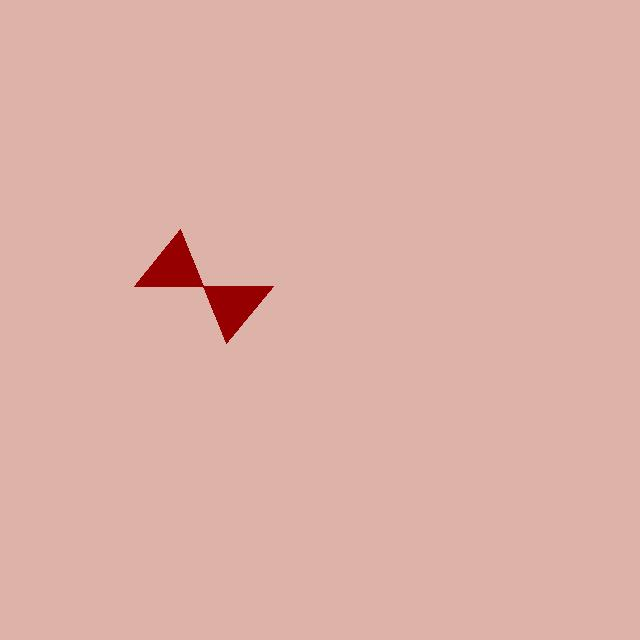laceration: (134, 229, 273, 343)
